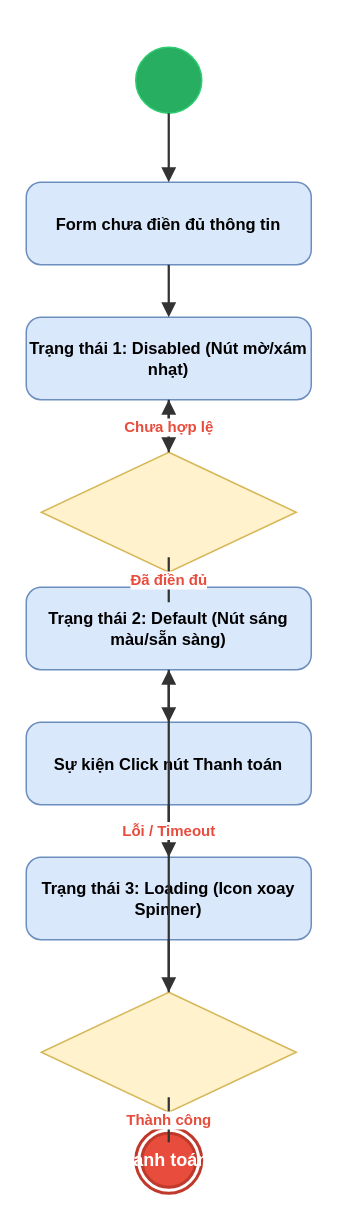
Image size: 338x1221. Some labels were removed from this diagram. Each missing label, with the box of its shape:
Gọi API Gateway thành công?: (40, 991, 296, 1112)
Kiểm tra nhập đủ & đúng thông tin?: (40, 451, 296, 572)
Mở màn hình Thanh toán: (134, 46, 202, 113)
